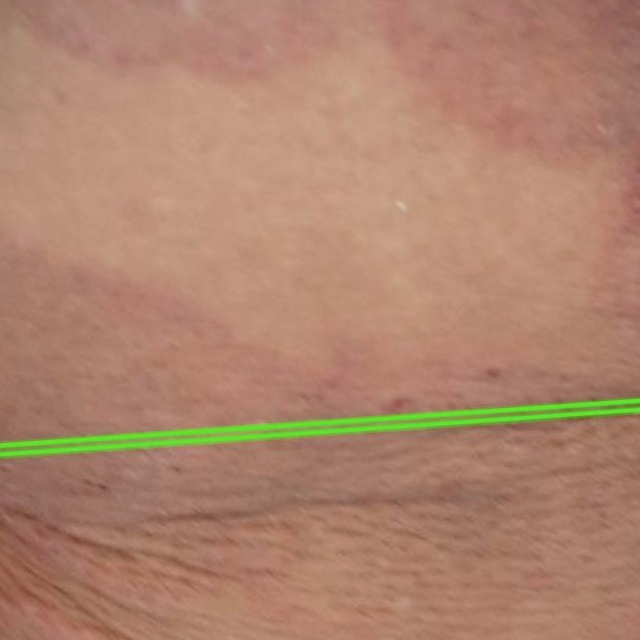Tinea Corporis: (0, 0, 639, 445), (0, 409, 639, 639)
